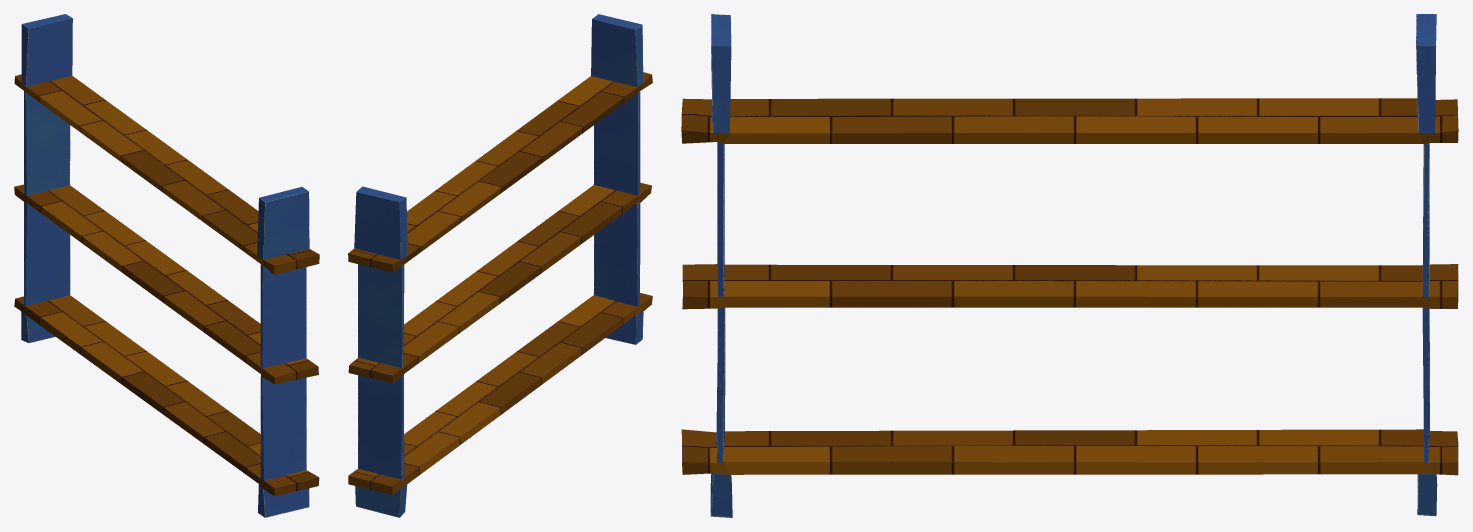
The model's file is Shelf for items.fbx.
3 renders of one model, left to right at view 1: azimuth 30°, elevation 25°; view 2: azimuth 150°, elevation 25°; view 3: azimuth 270°, elevation 25°, orthographic. The views are drawn at different scales.
Visible parts, largest first — view 1: Cube.001; view 2: Cube.001; view 3: Cube.001.
Part boxes in pixels (x1,y1,x2,y2): Cube.001: (14, 14, 319, 517); Cube.001: (348, 14, 652, 517); Cube.001: (681, 14, 1458, 517).
Size of the model in its own units: 135 by 853 by 1274.
